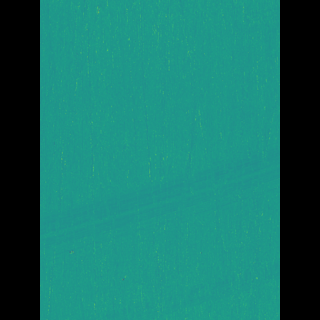Loch: (68, 139, 250, 267), (93, 257, 248, 320)
